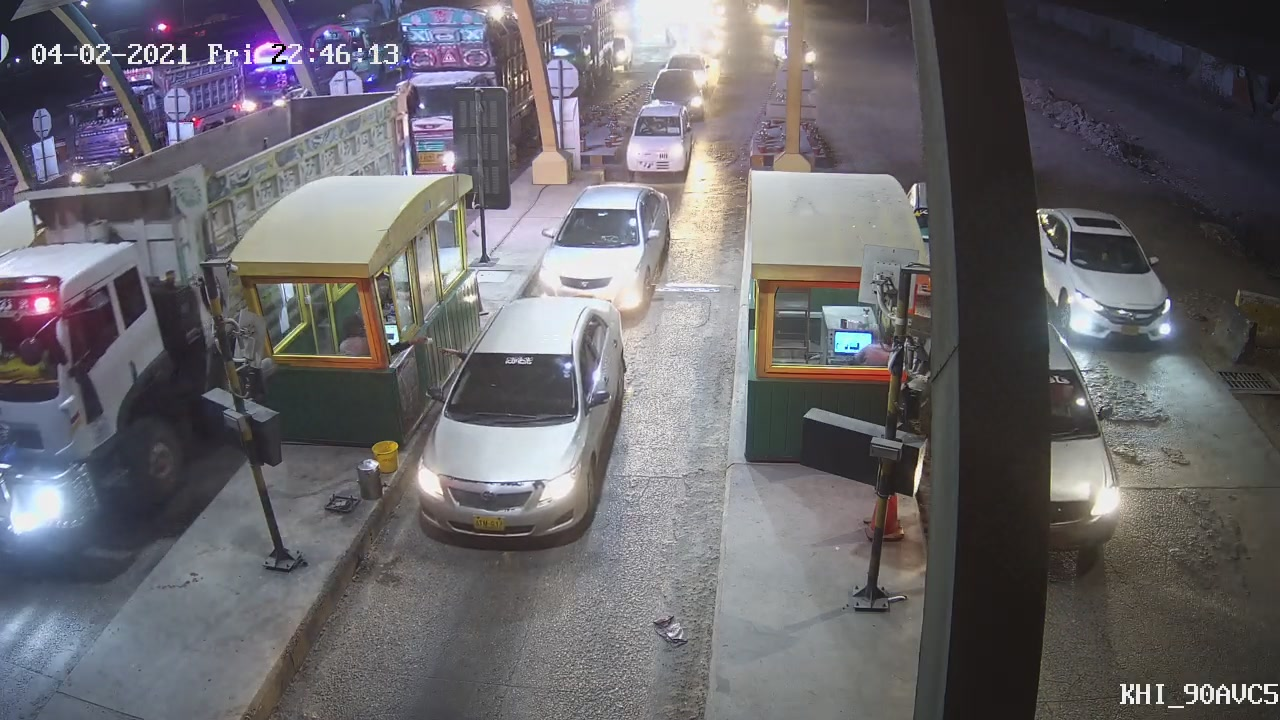F1: (409, 291, 631, 546), (527, 167, 675, 323)
